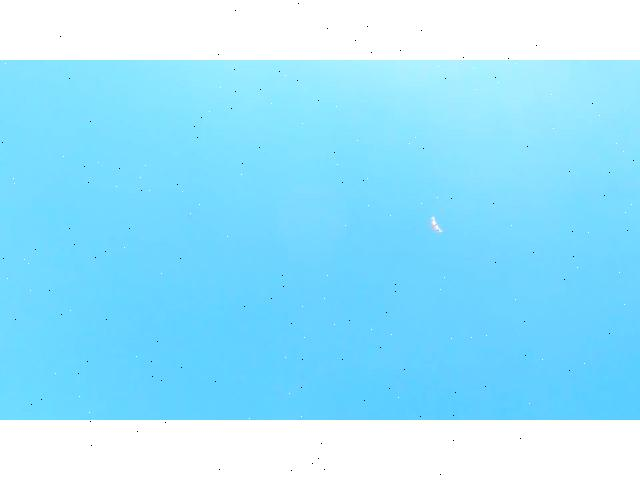Anti-Drone: (417, 210, 455, 242)
